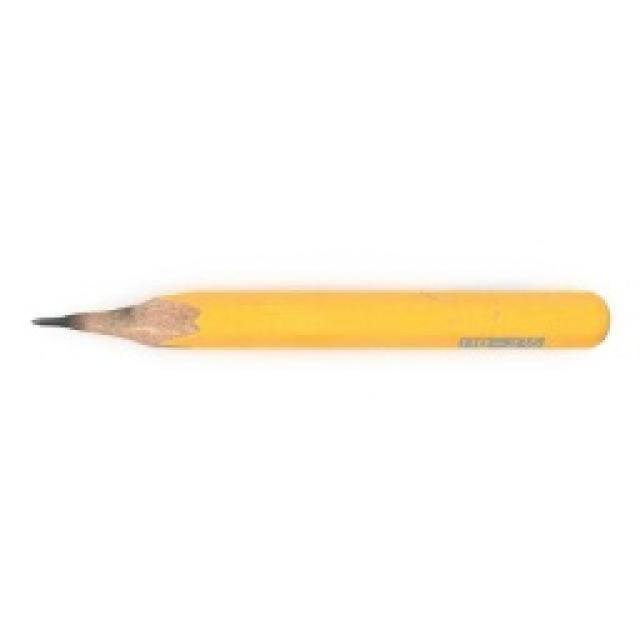pencil: (28, 283, 612, 355)
